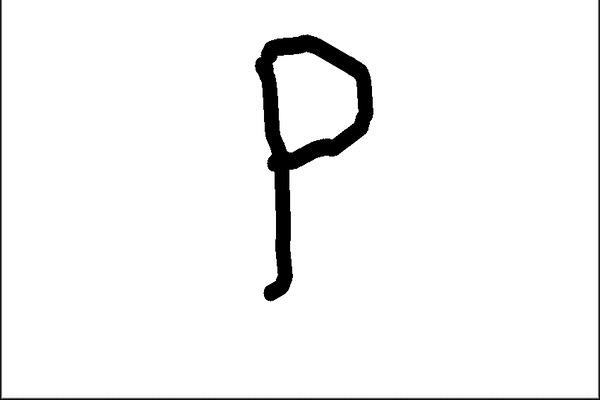P: (231, 21, 379, 307)
